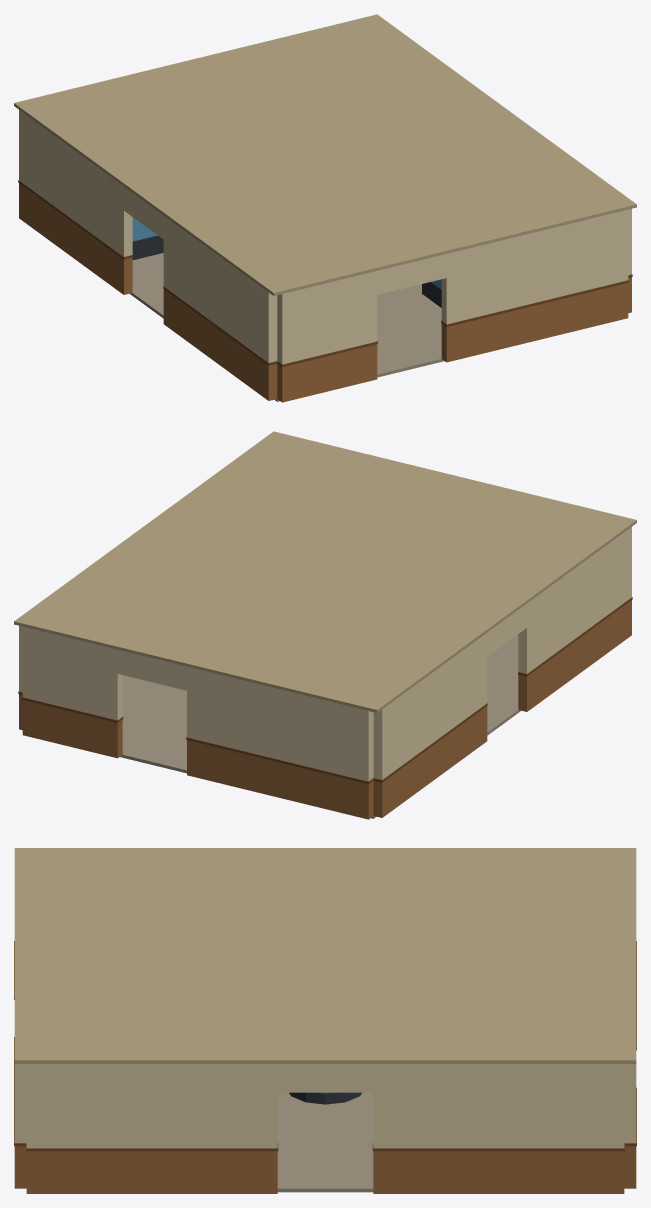
File: room_zoology_aquarium.glb
3 views of the same model, one above another, from view 1: azimuth 30°, elevation 25°; view 2: azimuth 150°, elevation 25°; view 3: azimuth 270°, elevation 25° (orthographic). The views are drawn at different scales.
Visible parts, largest first — view 1: room_zoology_aquarium; view 2: room_zoology_aquarium; view 3: room_zoology_aquarium.
Part boxes in pixels (x1=…): room_zoology_aquarium: x1=14, y1=14, x2=636, y2=402; room_zoology_aquarium: x1=14, y1=431, x2=636, y2=819; room_zoology_aquarium: x1=14, y1=848, x2=636, y2=1193.
Bounding box in the file's own units: 12.62 × 3.8 × 15.64.
Materials: 1 (1 with a texture image).
